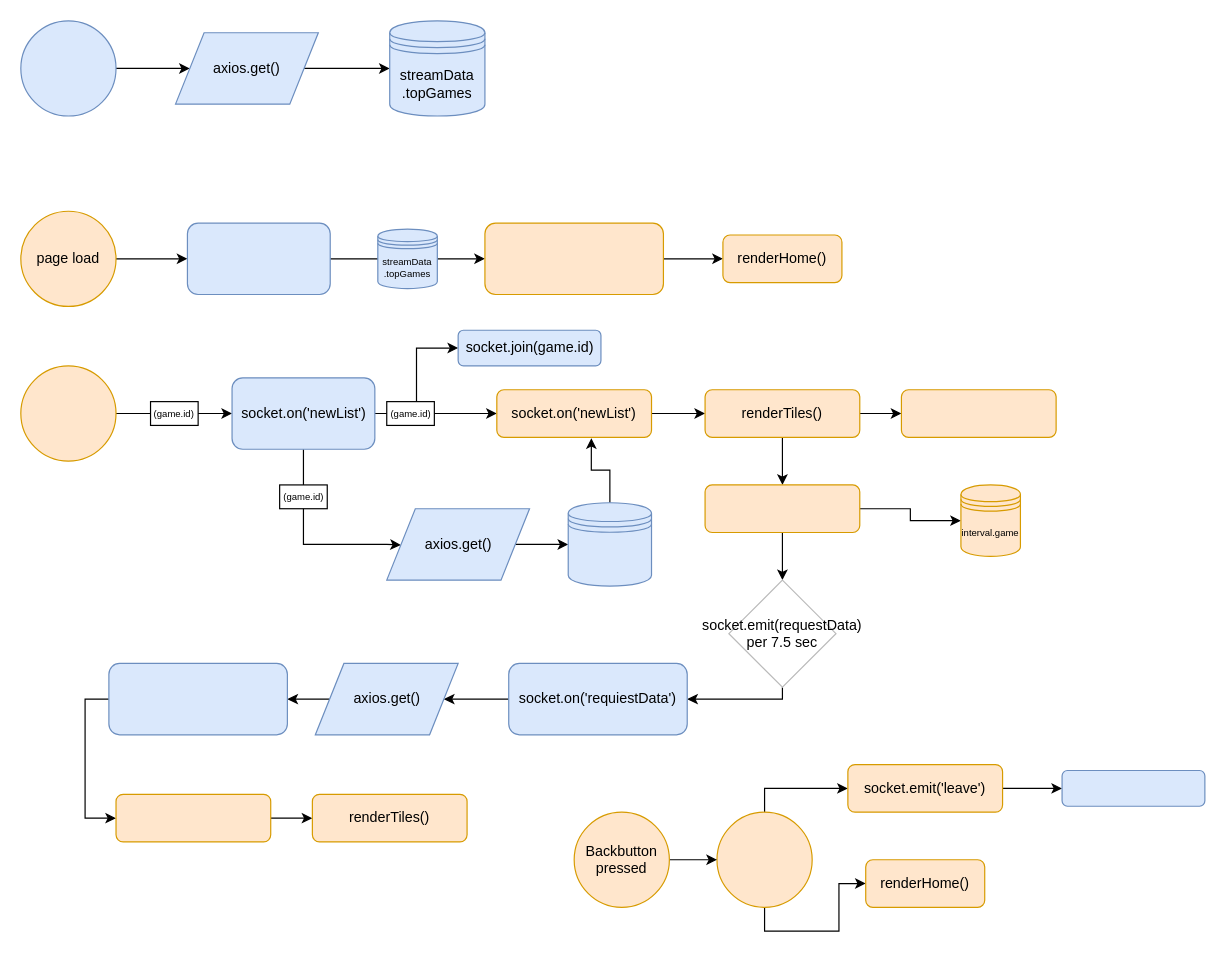
Some shapes in this 1226 by 962 pixel diagram are drawn without their labels. Each missing label, with the box of its shape:
.gamecover gets clicked: (20, 365, 116, 461)
io.on('connect'): (186, 222, 330, 295)
renderBackButton(): (900, 389, 1056, 437)
Server start: (20, 20, 116, 116)
setInterval(): (704, 484, 860, 533)
socket.emit('updateData'): (108, 662, 287, 735)
socket.leave(): (1061, 769, 1205, 806)
socket.on('renderHome'): (484, 222, 663, 295)
socket.on('updateData'): (115, 793, 271, 842)
streamData. currentGame = {}: (567, 502, 652, 586)
window.hash change: (716, 811, 812, 907)
